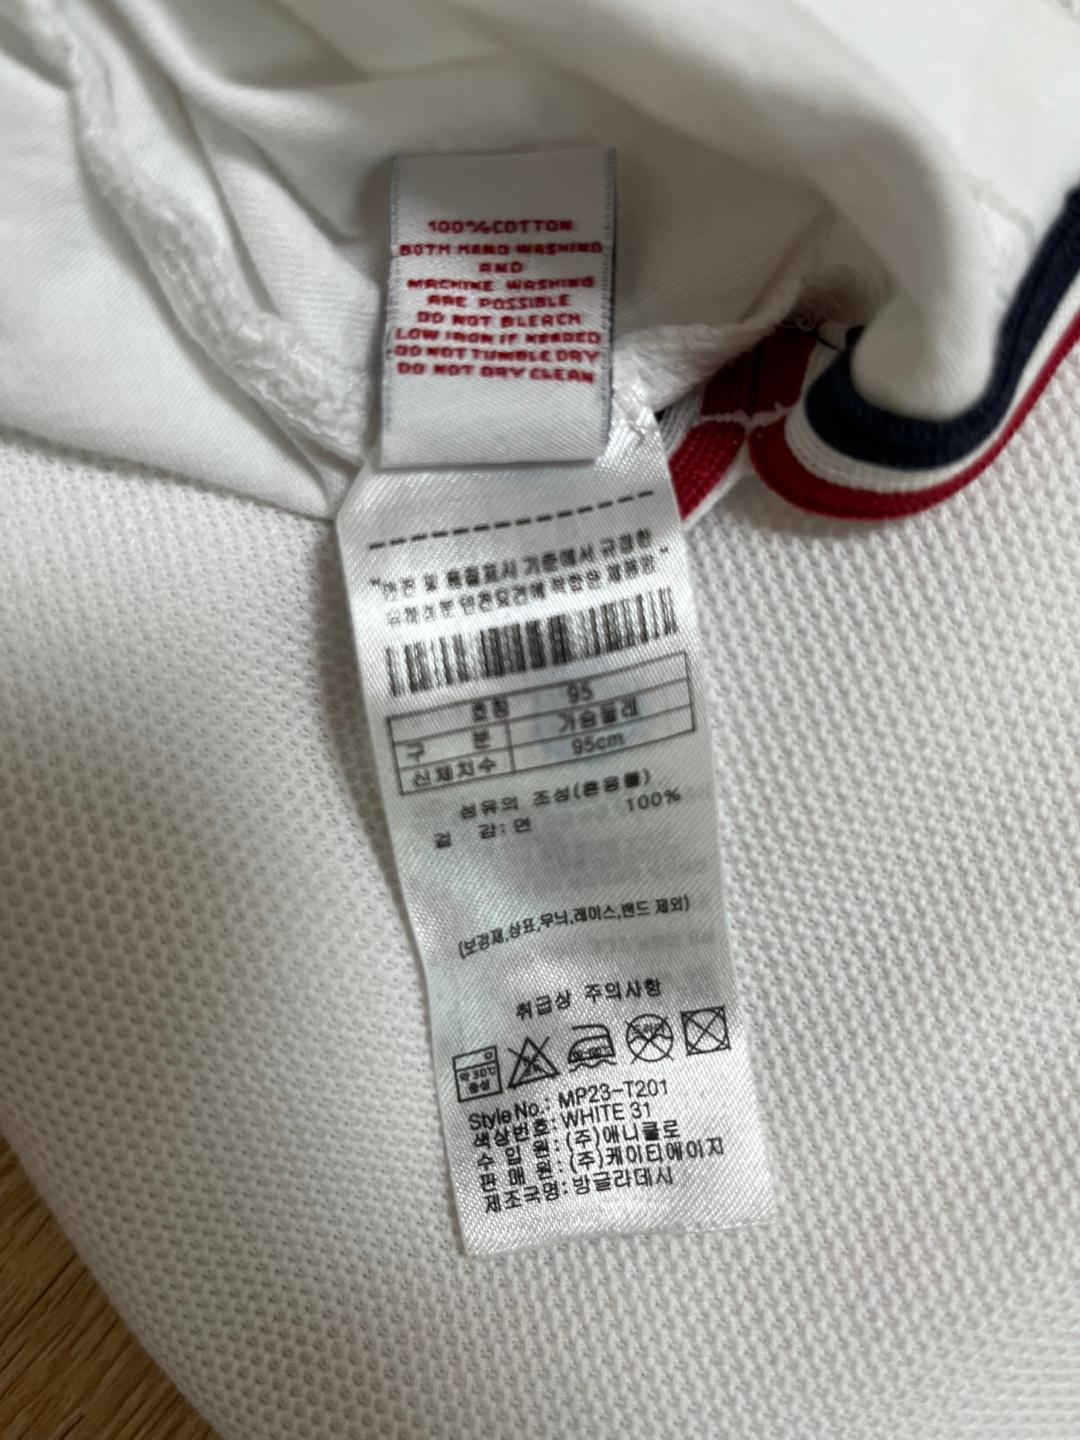30C: (452, 1039, 503, 1107)
DN_dry_clean: (623, 1010, 678, 1069)
DN_tumble_dry: (680, 1003, 735, 1059)
iron_low: (565, 1018, 619, 1071)
non_chlorine_bleach: (506, 1036, 562, 1093)
